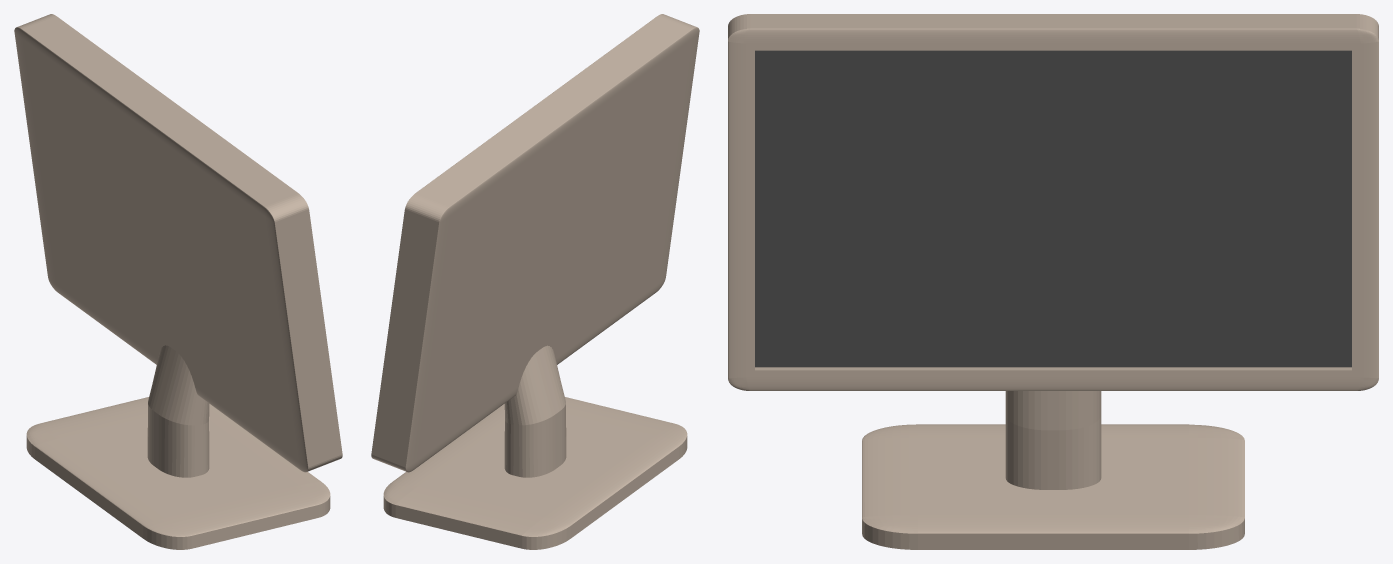
File: monitor.glb
The picture shows the model from 3 angles, left to right: view 1: azimuth 30°, elevation 25°; view 2: azimuth 150°, elevation 25°; view 3: azimuth 270°, elevation 25°; orthographic projection. The views are drawn at different scales.
Parts seen in each view (by area): view 1: Cube; view 2: Cube; view 3: Screen, Cube.
Part boxes in pixels (left/top/right/bottom): Cube: left=14, top=14, right=342, bottom=549; Cube: left=371, top=14, right=699, bottom=549; Screen: left=755, top=50, right=1351, bottom=367; Cube: left=728, top=14, right=1378, bottom=549.
Bounding box in the file's own units: 0.2207 × 0.4398 × 0.5566.
